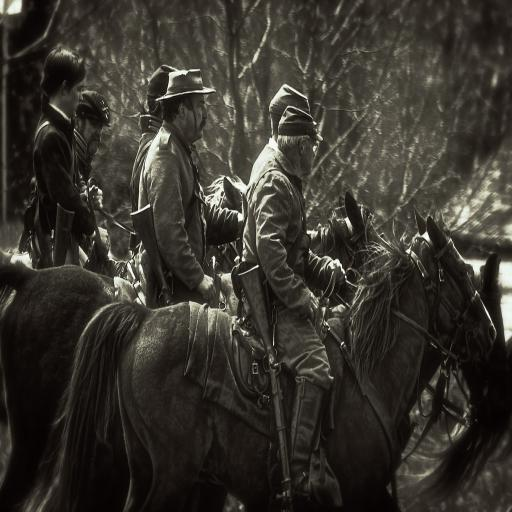horse: (0, 170, 512, 512)
